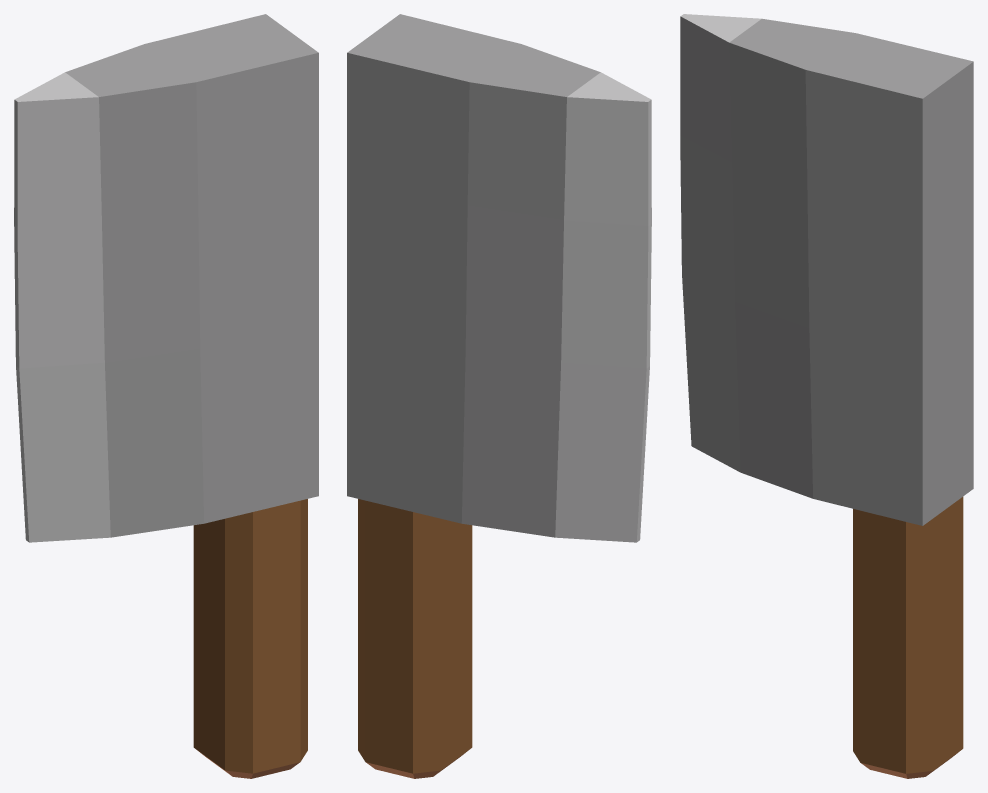
File: KitchenKnife.fbx
3 renders of one model, left to right at view 1: azimuth 30°, elevation 25°; view 2: azimuth 150°, elevation 25°; view 3: azimuth 330°, elevation 25°, orthographic. The views are drawn at different scales.
Visible parts, largest first — view 1: Cube, Cube.001; view 2: Cube, Cube.001; view 3: Cube, Cube.001.
Part boxes in pixels (box(x1,y1,x2,y2)): Cube: box(14, 14, 318, 542); Cube.001: box(193, 499, 307, 778); Cube: box(347, 14, 651, 542); Cube.001: box(358, 499, 472, 778); Cube: box(680, 14, 973, 525); Cube.001: box(853, 497, 963, 778).
Size of the model in its own units: 96.07 by 238 by 31.85.
